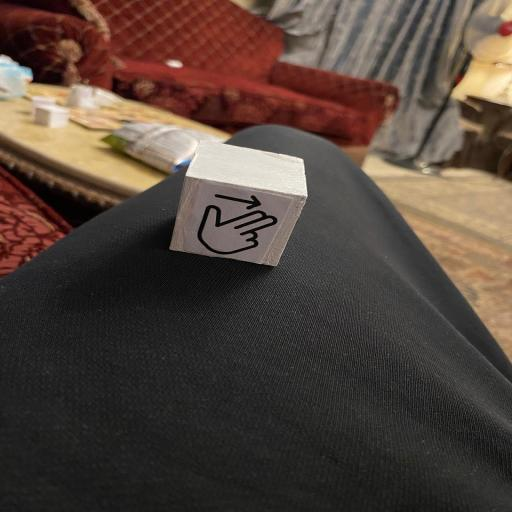RightSwipe: (169, 141, 314, 265)
